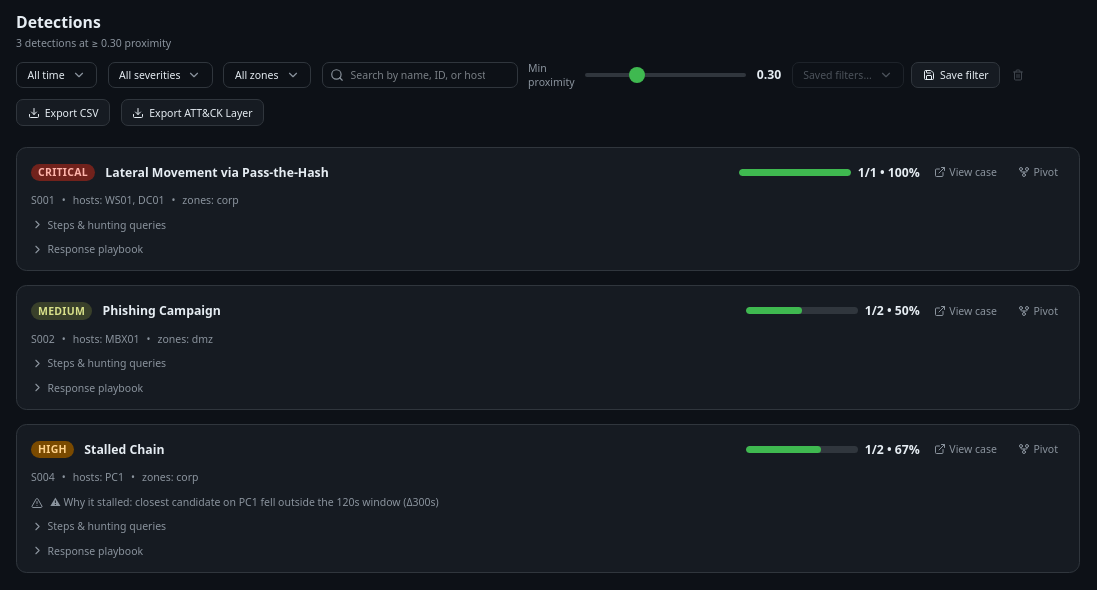
Test: Dashboard › zone filter can be cleared back to All (Fix 1: empty option restores unfiltered list)
Expected: the text "Lateral Movement via Pass-the-Hash" is shown, [105,164,329,180]
Expected: the text "Phishing Campaign" is shown, [103,302,221,319]
Note: Select corp
Click the dropdown labelled "All zones": (267, 75) [224,62,311,88]
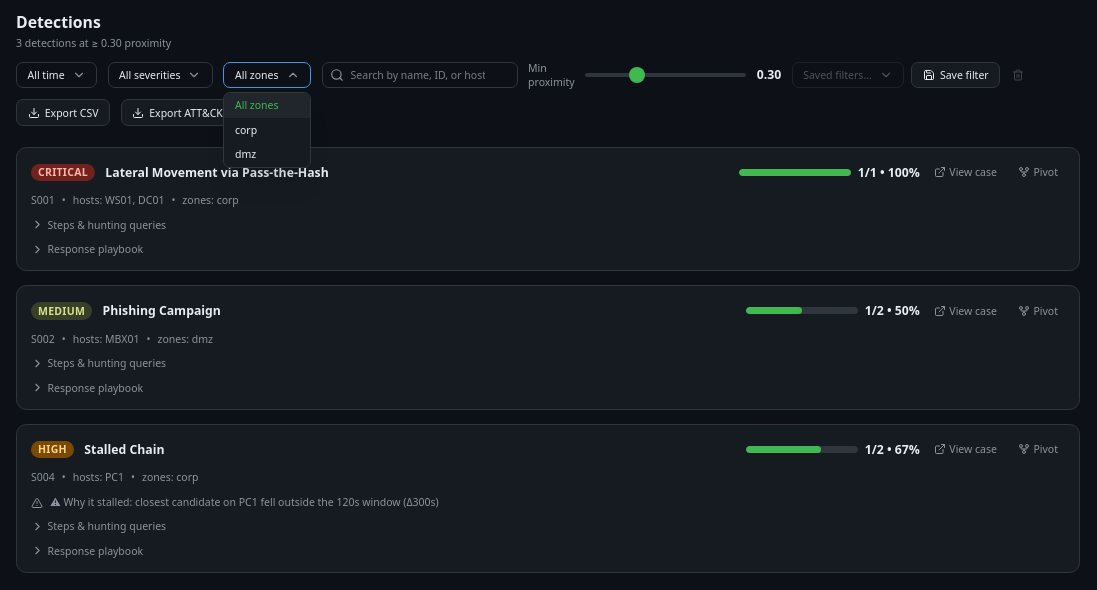
Click the option "corp": (246, 130) [235,123,257,137]
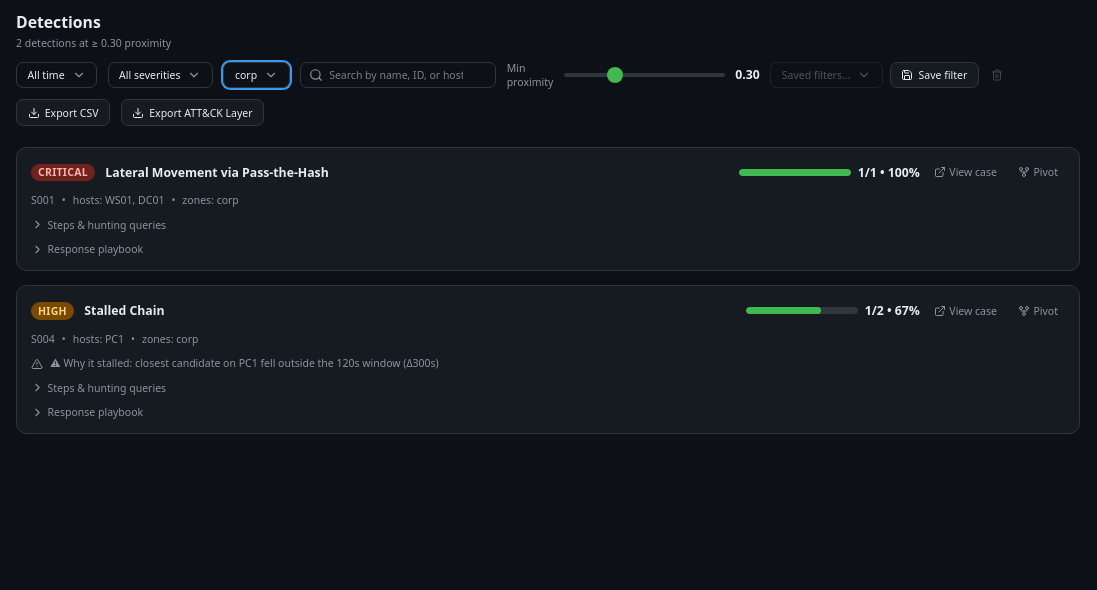
Now the text "Phishing Campaign" is gone
Note: Clear by picking "All zones"
Click the dropdown named "zone": (257, 75) [224,62,290,88]
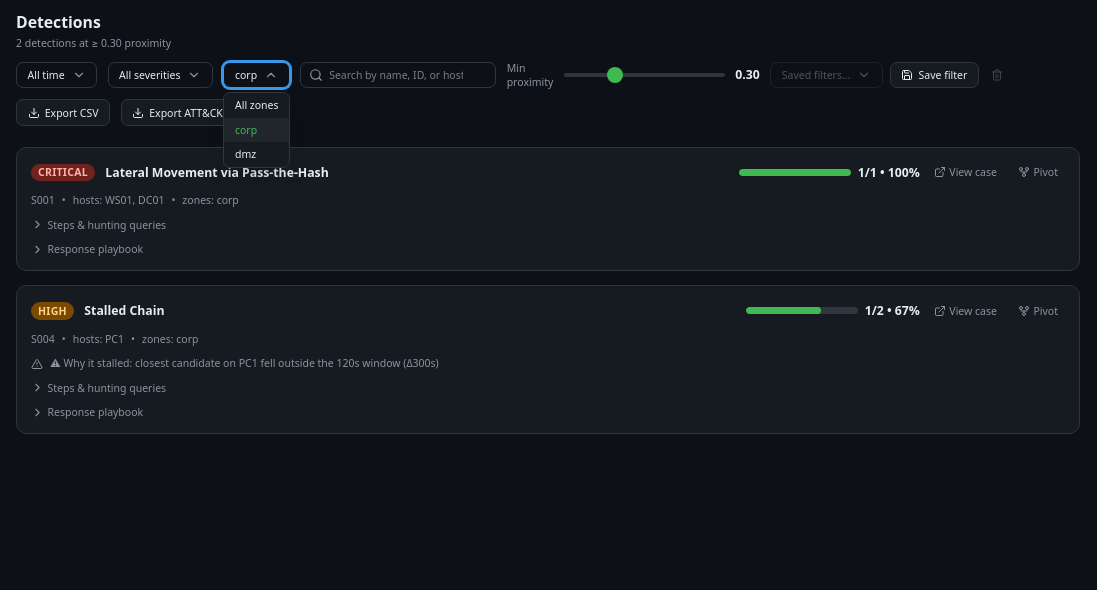
Click the option "All zones": (257, 105) [235,98,279,112]
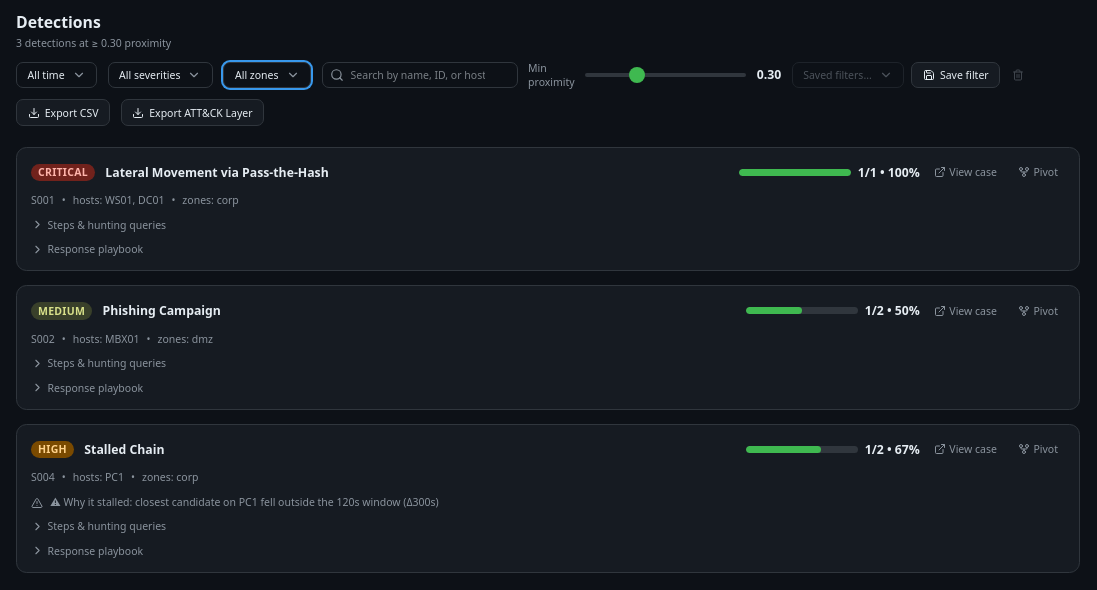
Expected: the text "Lateral Movement via Pass-the-Hash" is shown, [105,164,329,180]
Now the text "Phishing Campaign" is shown, box [103,302,221,319]
